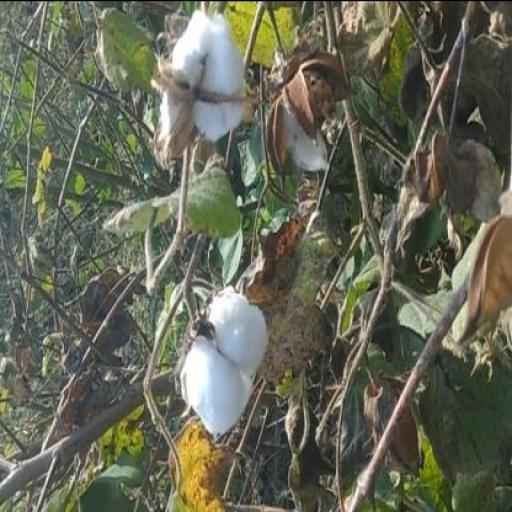cotton_ready: (170, 244, 288, 449), (148, 17, 267, 176)
